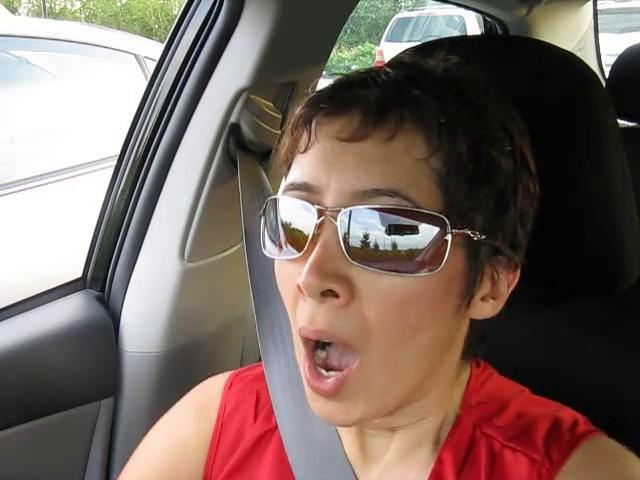yawn: (275, 327, 378, 398)
